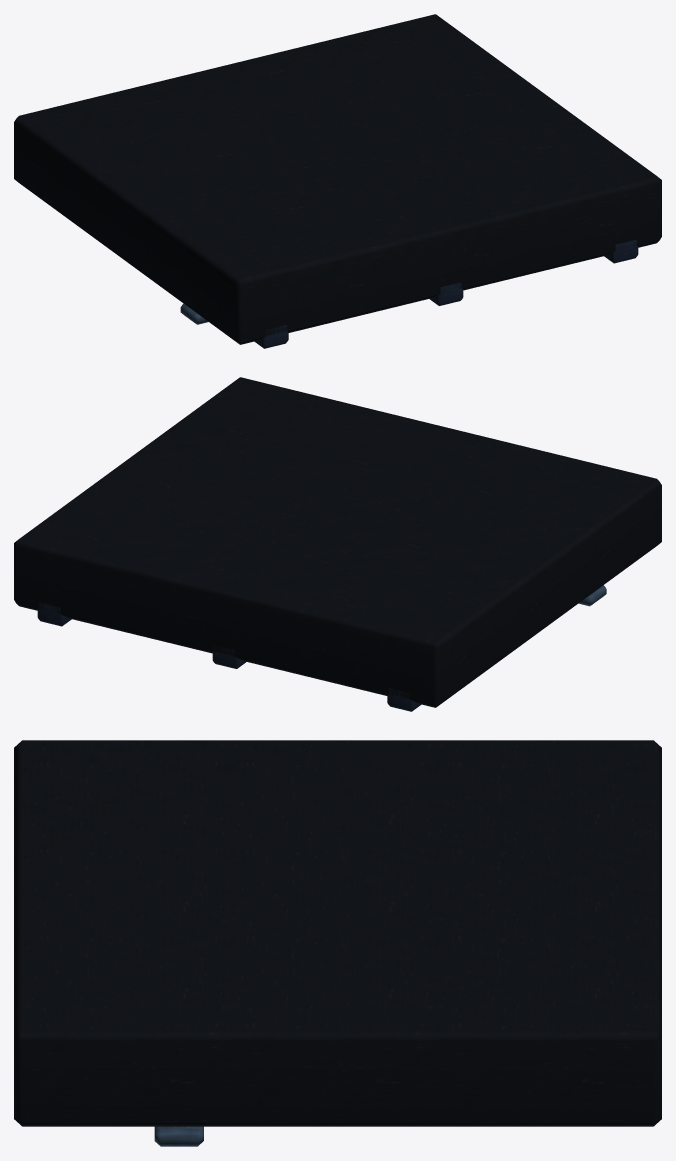
Rendered from ceiling.glb.
3 views of the same model, one above another, from view 1: azimuth 30°, elevation 25°; view 2: azimuth 150°, elevation 25°; view 3: azimuth 270°, elevation 25° (orthographic). The views are drawn at different scales.
Parts seen in each view (by area): view 1: ceiling - Recessed iron, ceiling - Blue steel; view 2: ceiling - Recessed iron, ceiling - Blue steel; view 3: ceiling - Recessed iron, ceiling - Brushed gunmetal.
Part boxes in pixels (left/top/right/bottom): ceiling - Recessed iron: left=14, top=14, right=661, bottom=344; ceiling - Blue steel: left=254, top=239, right=638, bottom=348; ceiling - Recessed iron: left=14, top=377, right=661, bottom=707; ceiling - Blue steel: left=37, top=602, right=421, bottom=711; ceiling - Recessed iron: left=14, top=740, right=661, bottom=1126; ceiling - Brushed gunmetal: left=154, top=1126, right=203, bottom=1146.
Size of the model in its own units: 5.98 by 1.2 by 5.51.
Materials: 4 (3 with a texture image).
